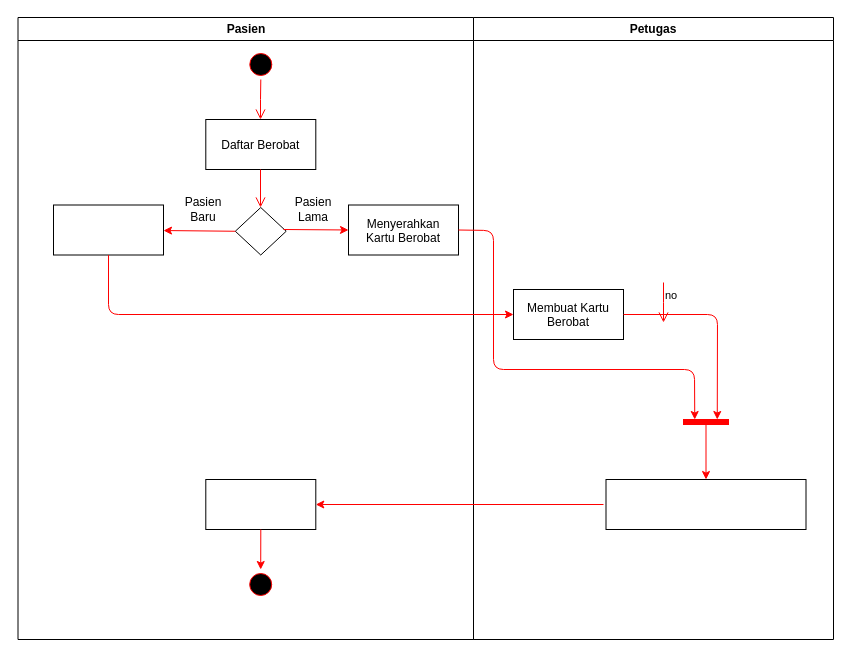
The diagram is 851 pixels wide and 657 high, and some of its shapes have lost their labels. The box of each missing label's shape, as (x1, y1, x2, y2) in pixels:
Menerima Kartu Berobat: (205, 478, 316, 530)
Mengisi Buku Pendaftaran Pasien: (605, 478, 806, 530)
Menyerahkan Data: (52, 204, 164, 255)
